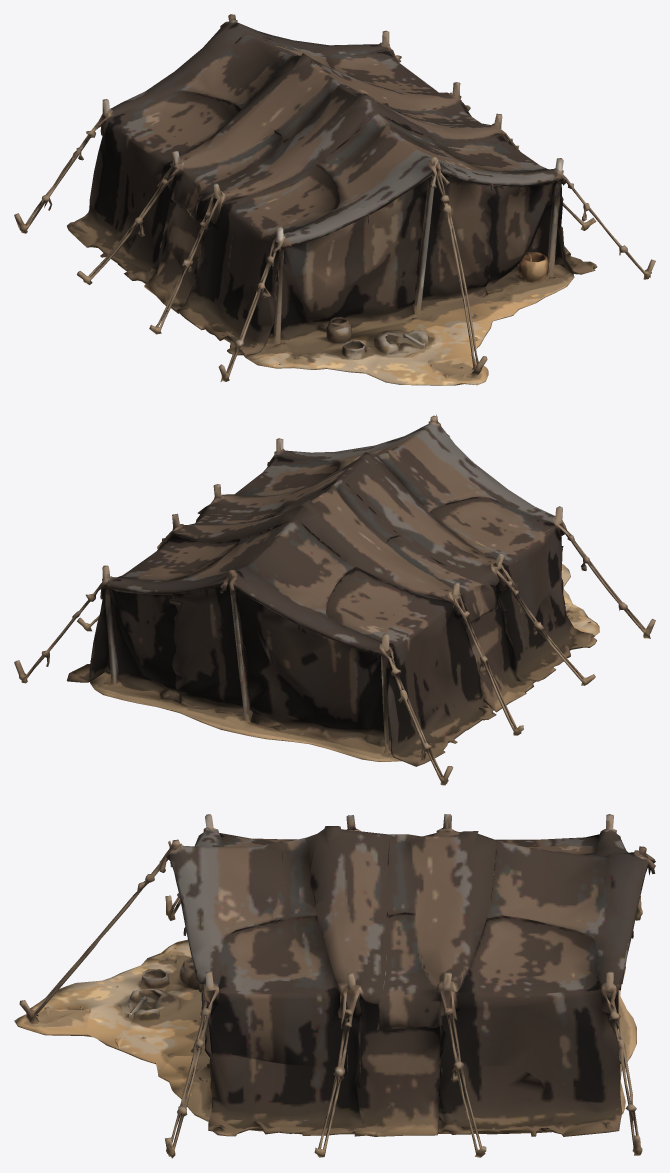
File: Tent.fbx
3 renders of one model, top to bottom at view 1: azimuth 30°, elevation 25°; view 2: azimuth 150°, elevation 25°; view 3: azimuth 270°, elevation 25°, orthographic. The views are drawn at different scales.
Parts seen in each view (by area): view 1: Tent; view 2: Tent; view 3: Tent.
Boxes of the visible parts, <box> form: Tent: <box>14,14,655,385</box>; Tent: <box>14,414,655,785</box>; Tent: <box>14,814,655,1158</box>.
Bounding box in the file's own units: 7.41 × 2.9 × 8.01.
Materials: 1 (1 with a texture image).
